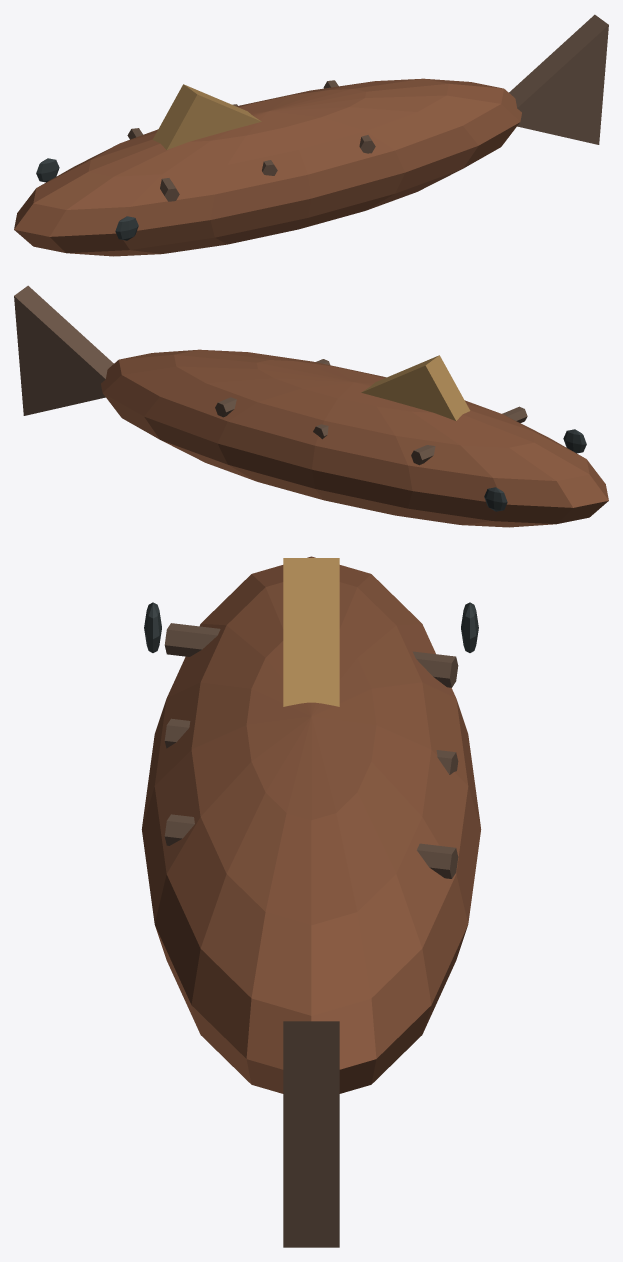
Rendered from AE_Item_SmokedTrout.fbx.
3 renders of one model, top to bottom at view 1: azimuth 30°, elevation 25°; view 2: azimuth 150°, elevation 25°; view 3: azimuth 270°, elevation 25°, orthographic. The views are drawn at different scales.
Visible parts, largest first — view 1: AE_Item_SmokedTrout; view 2: AE_Item_SmokedTrout; view 3: AE_Item_SmokedTrout.
Part boxes in pixels (x1,y1,x2,y2): AE_Item_SmokedTrout: (14,14,608,256); AE_Item_SmokedTrout: (14,285,608,527); AE_Item_SmokedTrout: (141,556,481,1247).
Size of the model in its own units: 0.6 by 0.15 by 0.15.
